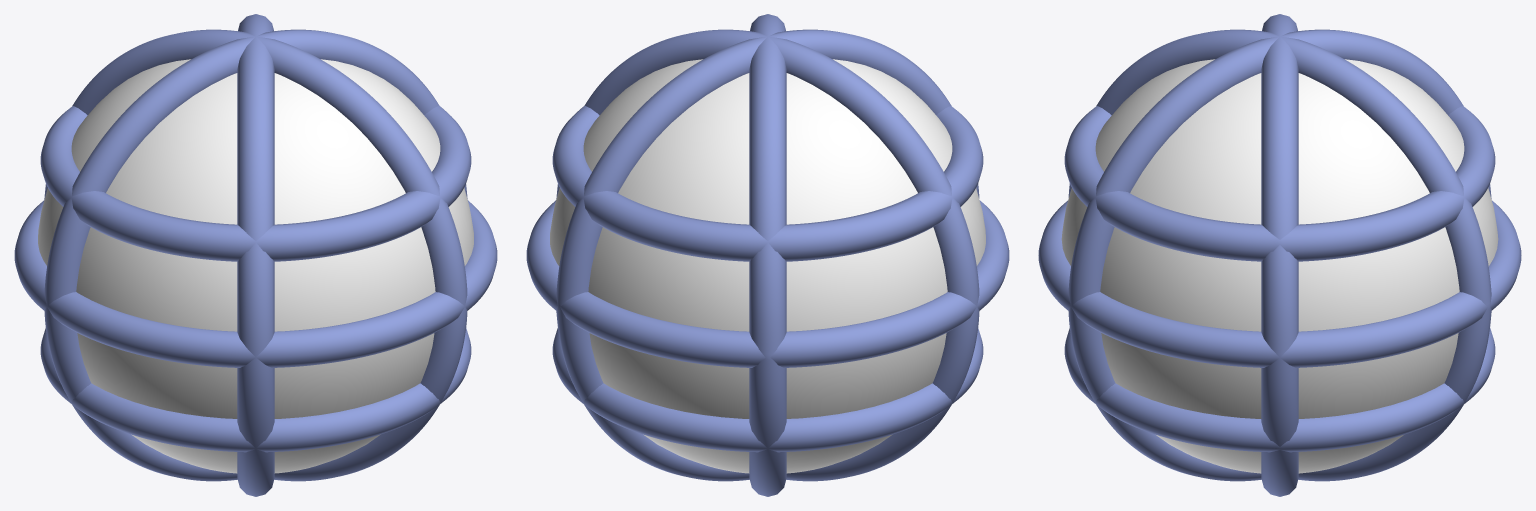
Rendered from netwer_globe.glb.
3 renders of one model, left to right at view 1: azimuth 30°, elevation 25°; view 2: azimuth 150°, elevation 25°; view 3: azimuth 270°, elevation 25°, orthographic.
Visible parts, largest first — view 1: Netwer_InnerSphere, Netwer_Meridian_120.0, Netwer_Meridian_0.0, Netwer_Equator, Netwer_Latitude_28, Netwer_Meridian_60.0, Netwer_Latitude_-28; view 2: Netwer_InnerSphere, Netwer_Meridian_60.0, Netwer_Meridian_0.0, Netwer_Equator, Netwer_Latitude_28, Netwer_Meridian_120.0, Netwer_Latitude_-28; view 3: Netwer_InnerSphere, Netwer_Meridian_60.0, Netwer_Meridian_120.0, Netwer_Equator, Netwer_Latitude_28, Netwer_Meridian_0.0, Netwer_Latitude_-28.
Boxes of the visible parts, x1,y1,x2,y2 form: Netwer_InnerSphere: [38, 59, 473, 473]; Netwer_Meridian_120.0: [44, 29, 467, 481]; Netwer_Meridian_0.0: [44, 29, 467, 481]; Netwer_Equator: [14, 200, 497, 367]; Netwer_Latitude_28: [40, 105, 471, 261]; Netwer_Meridian_60.0: [237, 14, 274, 496]; Netwer_Latitude_-28: [40, 328, 471, 452]; Netwer_InnerSphere: [550, 59, 985, 473]; Netwer_Meridian_60.0: [556, 29, 979, 481]; Netwer_Meridian_0.0: [556, 29, 979, 481]; Netwer_Equator: [526, 200, 1009, 367]; Netwer_Latitude_28: [552, 105, 983, 261]; Netwer_Meridian_120.0: [749, 14, 786, 496]; Netwer_Latitude_-28: [552, 328, 983, 452]; Netwer_InnerSphere: [1061, 59, 1498, 473]; Netwer_Meridian_60.0: [1068, 29, 1491, 481]; Netwer_Meridian_120.0: [1068, 29, 1491, 481]; Netwer_Equator: [1038, 200, 1521, 367]; Netwer_Latitude_28: [1064, 106, 1495, 261]; Netwer_Meridian_0.0: [1261, 14, 1298, 496]; Netwer_Latitude_-28: [1064, 328, 1495, 452].
Size of the model in its own units: 2.21 by 2.2 by 2.2.
